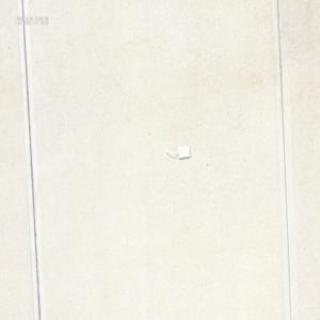LuggageTagtrack_idkeyframe: (163, 143, 190, 161)
